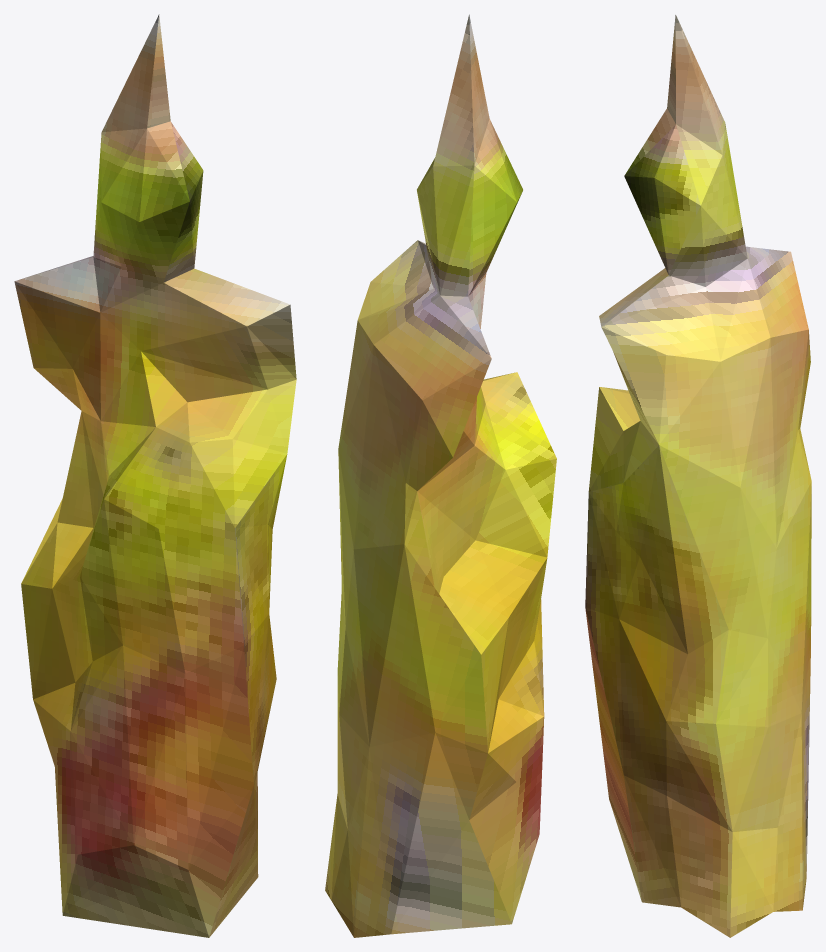
File: 1024-poison.glb
3 views of the same model, side by side, from view 1: azimuth 30°, elevation 25°; view 2: azimuth 150°, elevation 25°; view 3: azimuth 270°, elevation 25° (orthographic). The views are drawn at different scales.
Parts seen in each view (by area): view 1: Mesh_0; view 2: Mesh_0; view 3: Mesh_0.
Boxes of the visible parts, x1,y1,x2,y2 form: Mesh_0: (14, 14, 296, 937); Mesh_0: (325, 14, 556, 937); Mesh_0: (585, 15, 811, 937).
Bounding box in the file's own units: 0.0451 × 0.1862 × 0.0437.
Materials: 1 (1 with a texture image).
